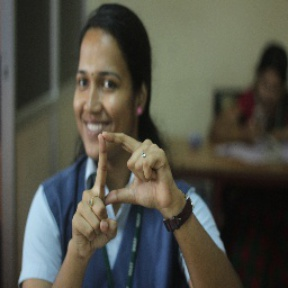D: (87, 123, 160, 224)
